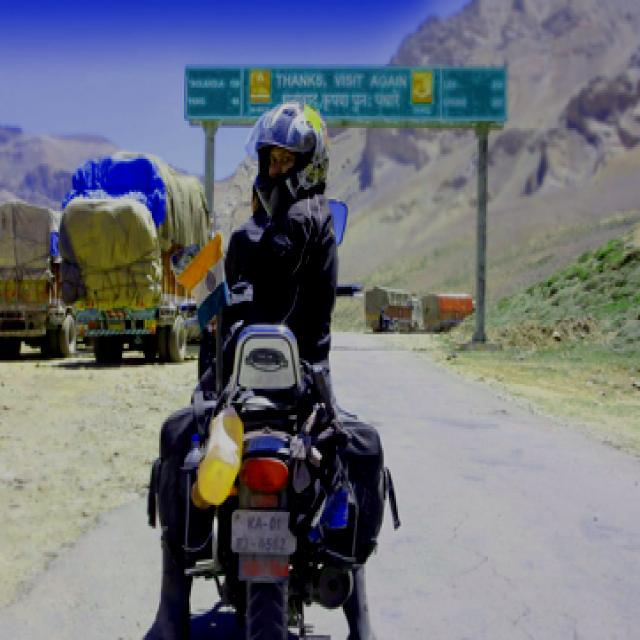Helmet: (245, 100, 328, 214)
